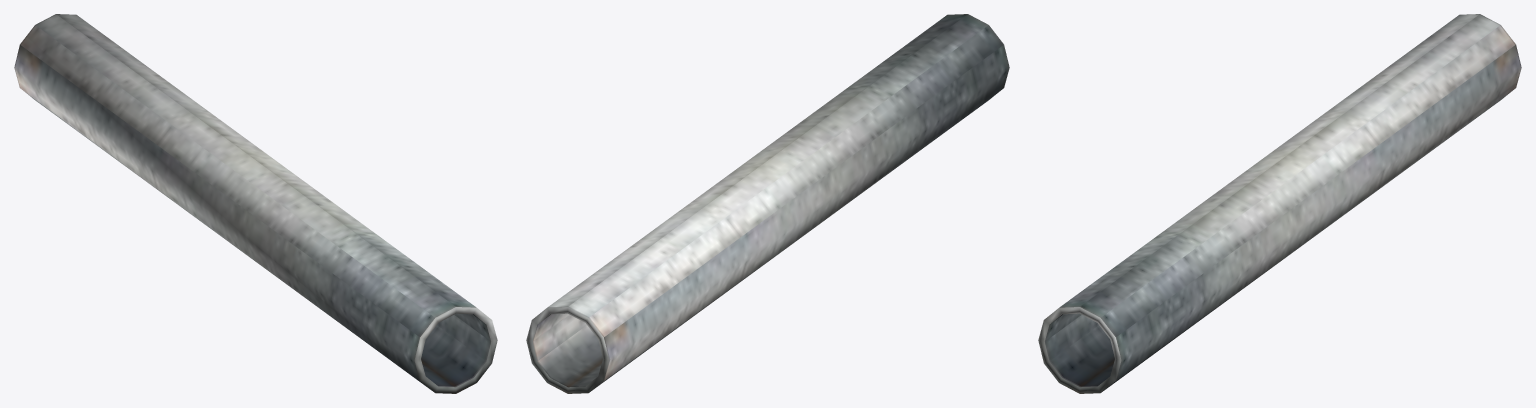
The model's file is psx_industrial_pack_metal_pipe.glb.
The picture shows the model from 3 angles, left to right: view 1: azimuth 30°, elevation 25°; view 2: azimuth 150°, elevation 25°; view 3: azimuth 330°, elevation 25°; orthographic projection.
Parts seen in each view (by area): view 1: MetalPipe; view 2: MetalPipe; view 3: MetalPipe.
Part boxes in pixels (box(x1,y1,x2,y2)): MetalPipe: box(14, 14, 497, 393); MetalPipe: box(526, 14, 1009, 393); MetalPipe: box(1038, 14, 1521, 393).
Size of the model in its own units: 0.3 by 0.3 by 2.5.
1 material, 1 textured.
